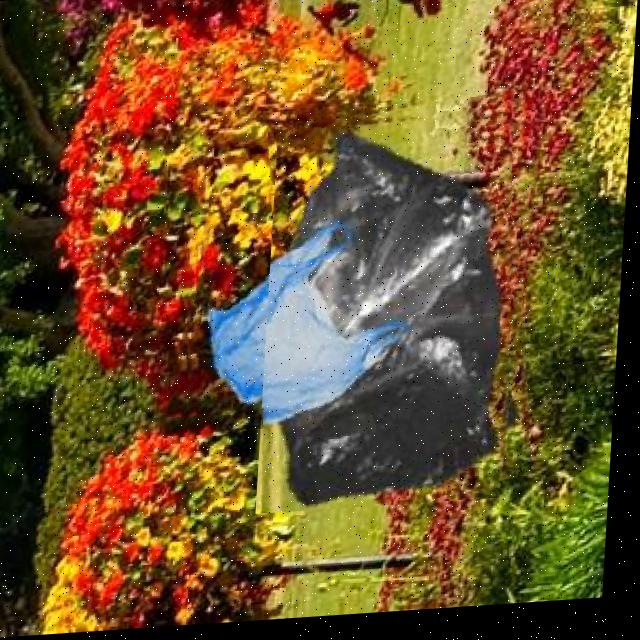litter: (262, 101, 547, 517), (178, 207, 436, 444)
